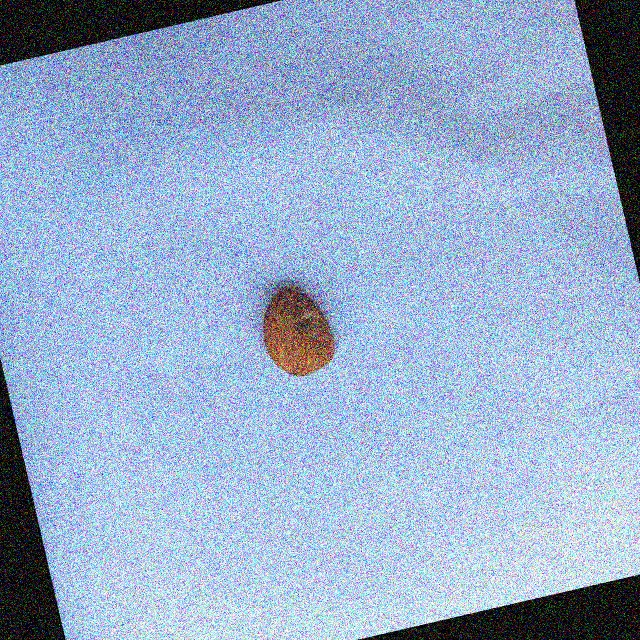grade3: (251, 275, 346, 388)
